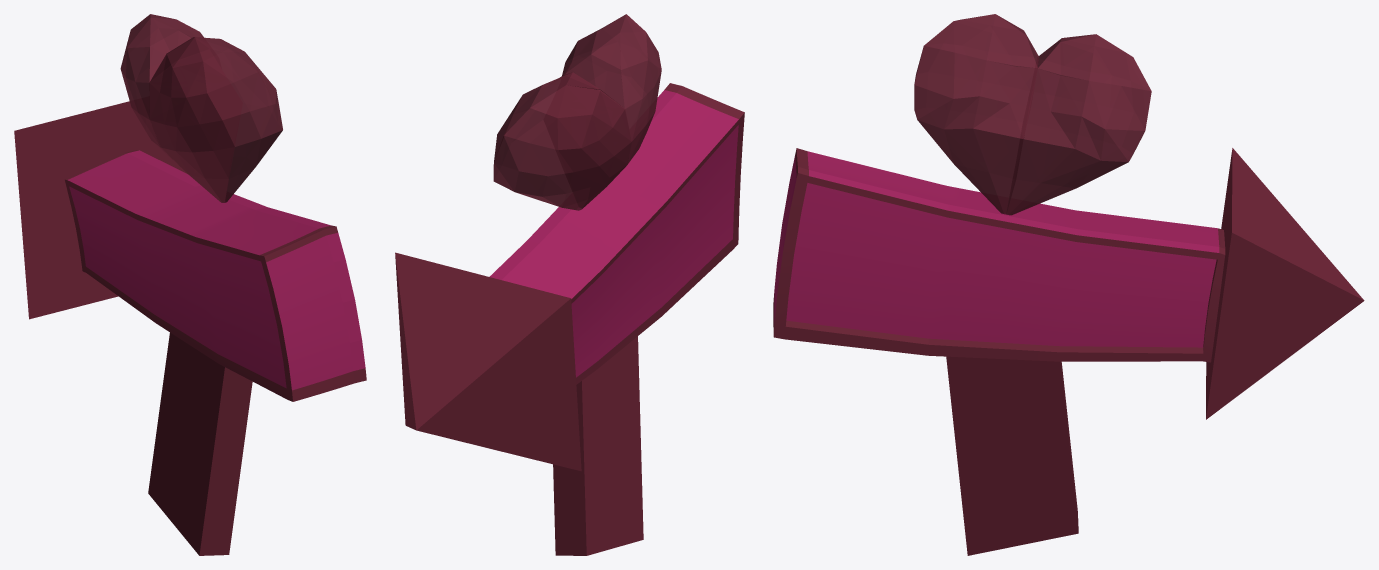
File: senal_02.fbx
3 renders of one model, left to right at view 1: azimuth 30°, elevation 25°; view 2: azimuth 150°, elevation 25°; view 3: azimuth 270°, elevation 25°, orthographic. The views are drawn at different scales.
Visible parts, largest first — view 1: senal_02; view 2: senal_02; view 3: senal_02.
Boxes of the visible parts, bbox=[...] form: senal_02: bbox=[14, 14, 366, 555]; senal_02: bbox=[395, 14, 744, 555]; senal_02: bbox=[773, 14, 1364, 555].
Size of the model in its own units: 0.4502 by 1.26 by 1.27.
